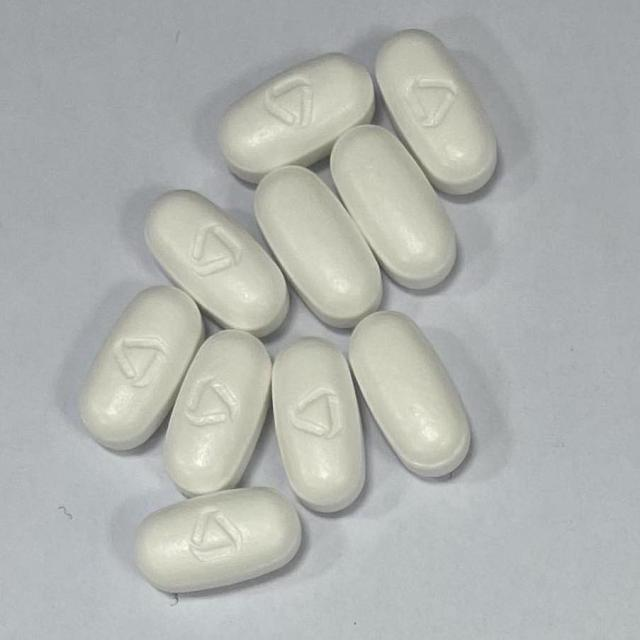Piller: (146, 191, 289, 336), (330, 125, 456, 289), (254, 165, 381, 327), (81, 286, 204, 450), (349, 311, 470, 476), (221, 54, 375, 182), (375, 31, 495, 194), (136, 487, 301, 593), (164, 331, 270, 495), (271, 338, 365, 513)
